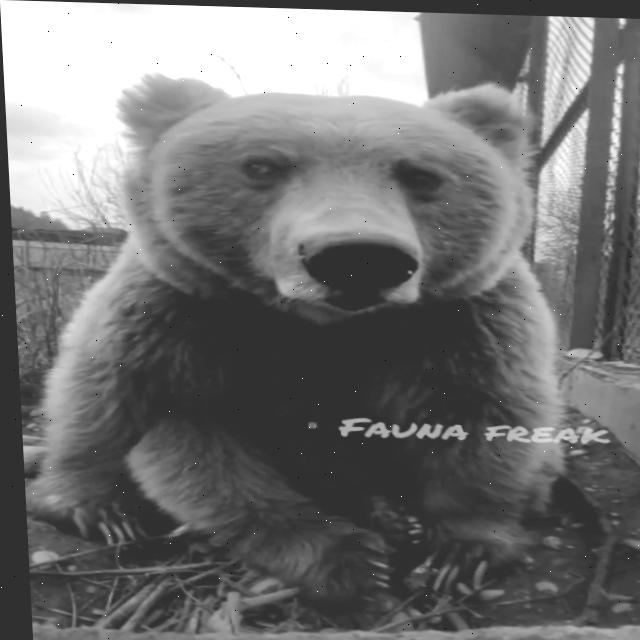Bear: (5, 65, 578, 622)
